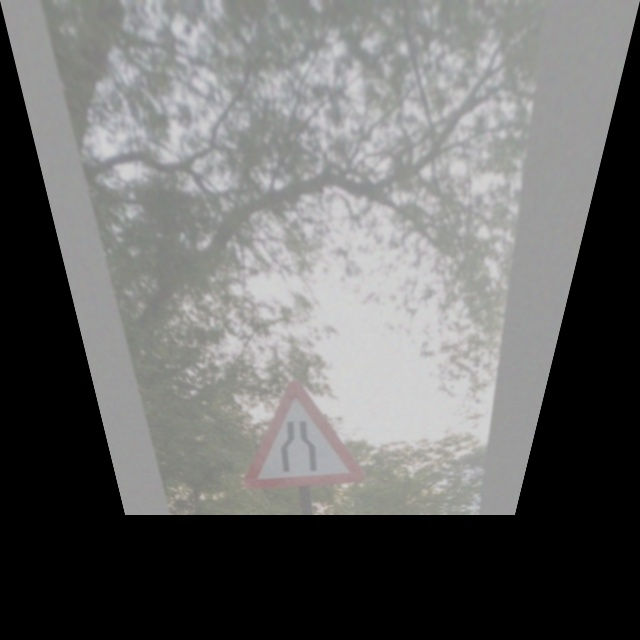Narrow_Road_Ahead: (229, 375, 372, 487)
